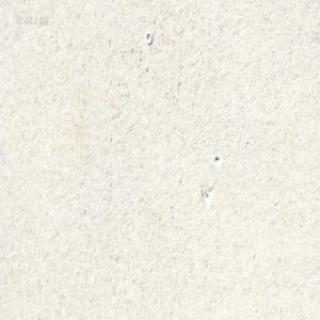Washertrack_idkeyframe: (144, 30, 152, 44)
